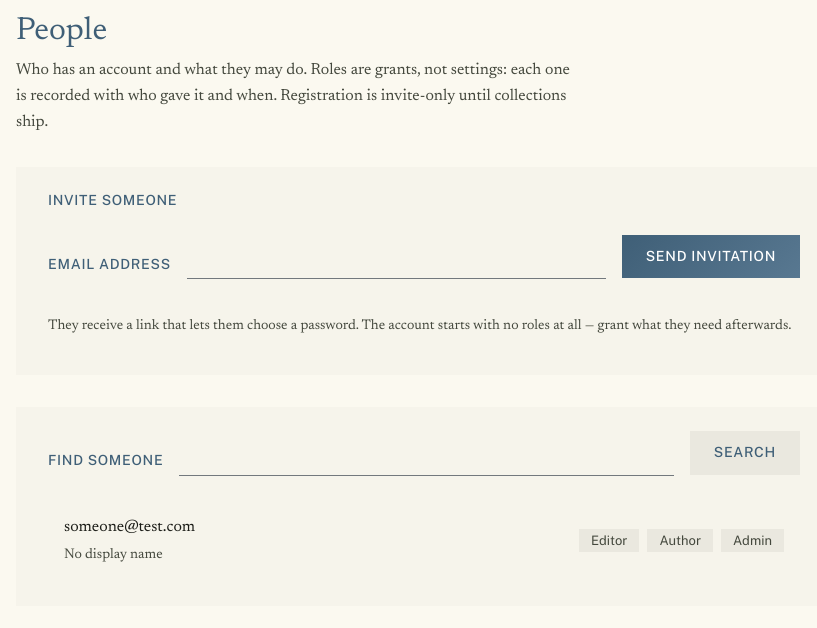
Test: AdminUsers › says plainly when the address already has an account
Type "taken@test.com" into the field labelled "Email address" at [396, 262], box [187, 246, 606, 278]
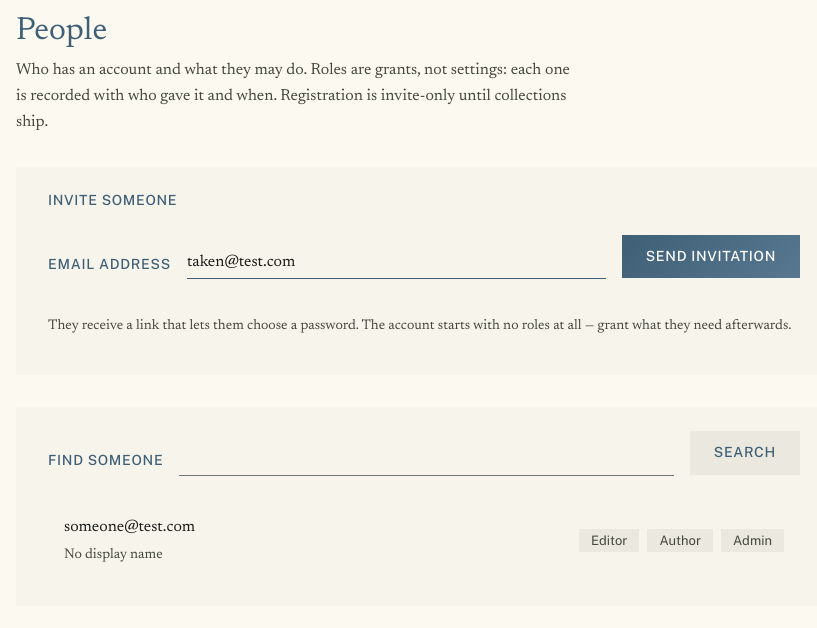
Click the button "Send invitation" at [711, 257], box [622, 235, 800, 278]
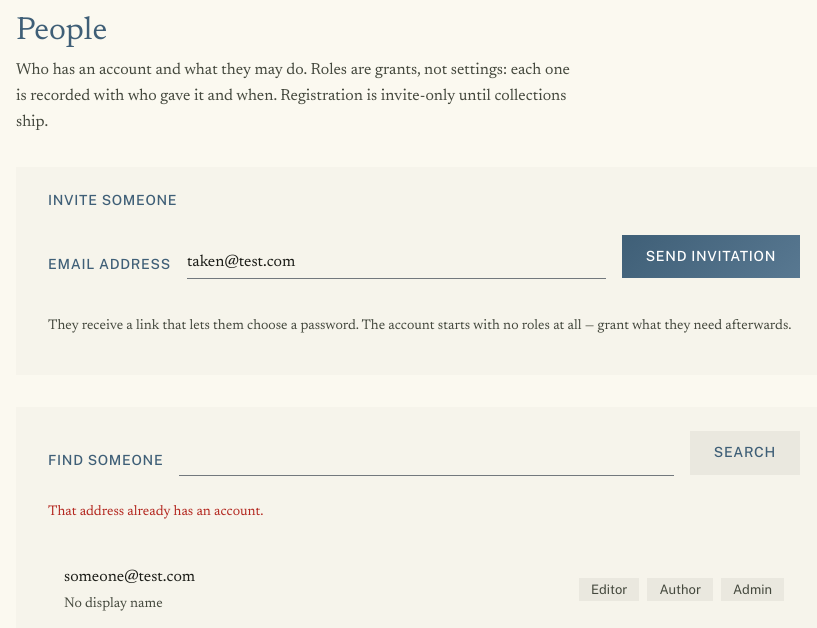
Expected: the message shows "already has an account", [48, 505, 264, 519]
